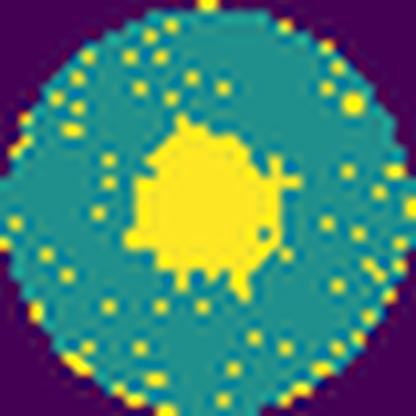Center: (124, 114, 298, 304)
